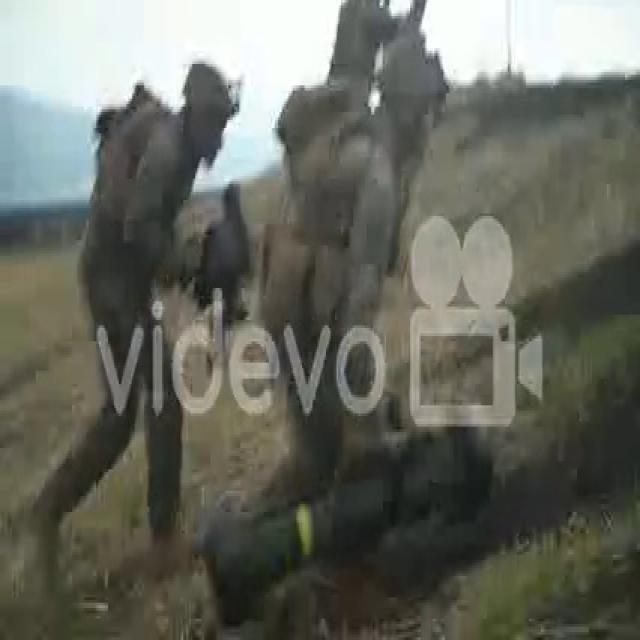bazooka: (206, 400, 493, 632)
